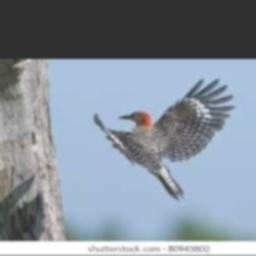Woodpecker: (94, 78, 236, 201)
